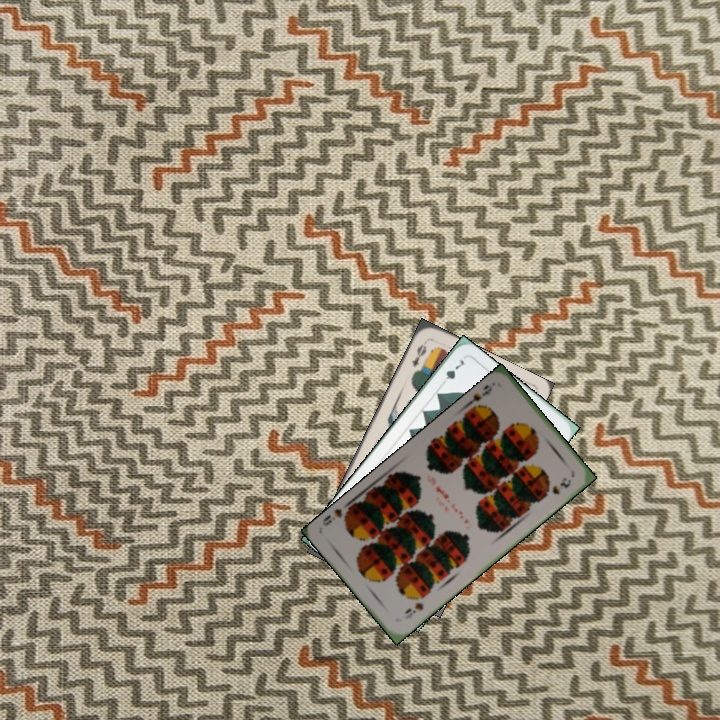EO: (407, 340, 429, 370)
G7: (436, 355, 469, 389)
S9: (462, 379, 497, 414), (401, 599, 427, 622)
